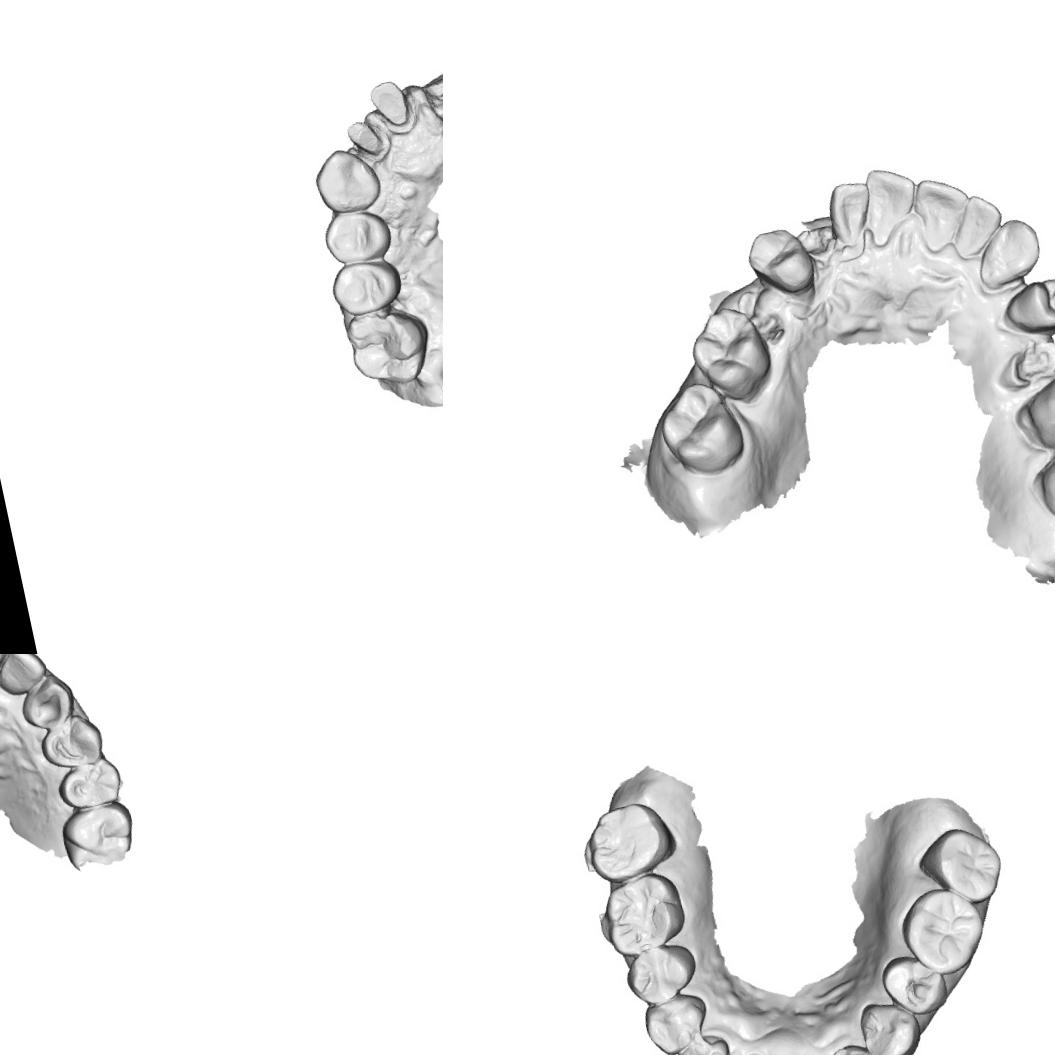canine: (969, 212, 1051, 294), (307, 140, 386, 220), (637, 988, 716, 1055), (854, 993, 931, 1055), (13, 671, 84, 737)
crown: (364, 75, 418, 136), (341, 114, 390, 166)
incisor: (910, 169, 976, 246), (946, 189, 1009, 262), (860, 160, 922, 234), (822, 178, 880, 250), (0, 654, 52, 701), (670, 1030, 742, 1055), (821, 1037, 889, 1055)
molar: (650, 373, 750, 484), (680, 298, 780, 408), (892, 878, 994, 984), (578, 791, 683, 888), (912, 819, 1011, 916), (340, 300, 439, 396), (594, 866, 692, 960), (55, 799, 136, 870), (1013, 360, 1055, 458), (1028, 435, 1055, 529)
premolar: (740, 217, 820, 301), (618, 938, 706, 1012), (316, 202, 398, 272), (877, 948, 952, 1023), (325, 253, 408, 320), (35, 710, 110, 775), (996, 267, 1055, 343), (53, 756, 127, 814)
